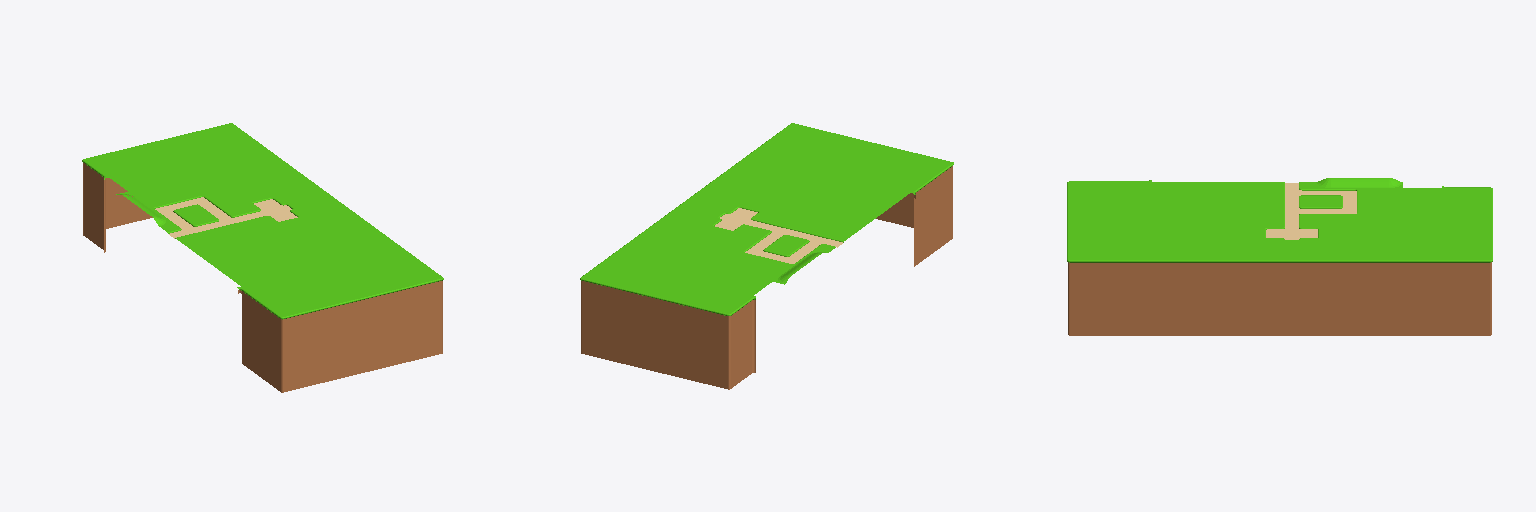
Rendered from WonderLand.obj.
3 views of the same model, side by side, from view 1: azimuth 30°, elevation 25°; view 2: azimuth 150°, elevation 25°; view 3: azimuth 270°, elevation 25° (orthographic).
Visible parts, largest first — view 1: Dirt_Wall.056_Dirt_Wall.031, Grass.002_Grass.003, Grass.040_Grass.032, Grass.003_Grass.008, Dirt_Wall.063_Dirt_Wall.035, Dirt_Wall.078_Dirt_Wall.052, Grass.001, Dirt_Wall.082_Dirt_Wall.054, Grass.019_Grass.007, Dirt_Wall.059_Dirt_Wall.033, Grass.027_Grass.004; view 2: Dirt_Wall.082_Dirt_Wall.054, Grass.002_Grass.003, Grass.040_Grass.032, Grass.003_Grass.008, Dirt_Wall.063_Dirt_Wall.035, Dirt_Wall.078_Dirt_Wall.052, Grass.001, Grass.019_Grass.007, Dirt_Wall.083_Dirt_Wall.055, Dirt_Wall.056_Dirt_Wall.031, Grass.027_Grass.004; view 3: Dirt_Wall.042_Dirt_Wall.028, Grass.002_Grass.003, Grass.040_Grass.032, Grass.003_Grass.008, Dirt_Wall.120_Dirt_Wall.005, Grass.001, Grass.019_Grass.007, Grass.027_Grass.004, Grass.036_Grass.027.
Boxes of the visible parts, x1=… form: Dirt_Wall.056_Dirt_Wall.031: x1=283, y1=284, x2=441, y2=392; Grass.002_Grass.003: x1=177, y1=216, x2=372, y2=315; Grass.040_Grass.032: x1=86, y1=124, x2=295, y2=206; Grass.003_Grass.008: x1=278, y1=207, x2=440, y2=293; Dirt_Wall.063_Dirt_Wall.035: x1=242, y1=294, x2=280, y2=391; Dirt_Wall.078_Dirt_Wall.052: x1=84, y1=166, x2=103, y2=249; Grass.001: x1=230, y1=172, x2=314, y2=201; Dirt_Wall.082_Dirt_Wall.054: x1=105, y1=178, x2=152, y2=228; Grass.019_Grass.007: x1=278, y1=186, x2=343, y2=215; Dirt_Wall.059_Dirt_Wall.033: x1=282, y1=278, x2=441, y2=322; Grass.027_Grass.004: x1=205, y1=188, x2=256, y2=214; Dirt_Wall.082_Dirt_Wall.054: x1=582, y1=284, x2=727, y2=388; Grass.002_Grass.003: x1=754, y1=141, x2=950, y2=240; Grass.040_Grass.032: x1=583, y1=230, x2=792, y2=312; Grass.003_Grass.008: x1=697, y1=124, x2=859, y2=210; Dirt_Wall.063_Dirt_Wall.035: x1=914, y1=169, x2=952, y2=266; Dirt_Wall.078_Dirt_Wall.052: x1=731, y1=304, x2=751, y2=388; Grass.001: x1=649, y1=216, x2=733, y2=245; Grass.019_Grass.007: x1=668, y1=195, x2=732, y2=224; Dirt_Wall.083_Dirt_Wall.055: x1=581, y1=278, x2=728, y2=318; Dirt_Wall.056_Dirt_Wall.031: x1=876, y1=193, x2=913, y2=227; Grass.027_Grass.004: x1=715, y1=225, x2=768, y2=251; Dirt_Wall.042_Dirt_Wall.028: x1=1070, y1=266, x2=1489, y2=335; Grass.002_Grass.003: x1=1070, y1=182, x2=1281, y2=226; Grass.040_Grass.032: x1=1360, y1=188, x2=1489, y2=259; Grass.003_Grass.008: x1=1070, y1=227, x2=1262, y2=259; Dirt_Wall.120_Dirt_Wall.005: x1=1070, y1=260, x2=1489, y2=265; Grass.001: x1=1321, y1=227, x2=1359, y2=259; Grass.019_Grass.007: x1=1263, y1=241, x2=1320, y2=259; Grass.027_Grass.004: x1=1302, y1=215, x2=1359, y2=226; Grass.036_Grass.027: x1=1331, y1=178, x2=1388, y2=187.
Bounding box in the file's own units: 39.56 × 18.25 × 88.27.